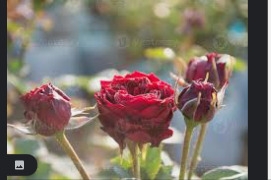RedRose: (92, 69, 179, 147)
